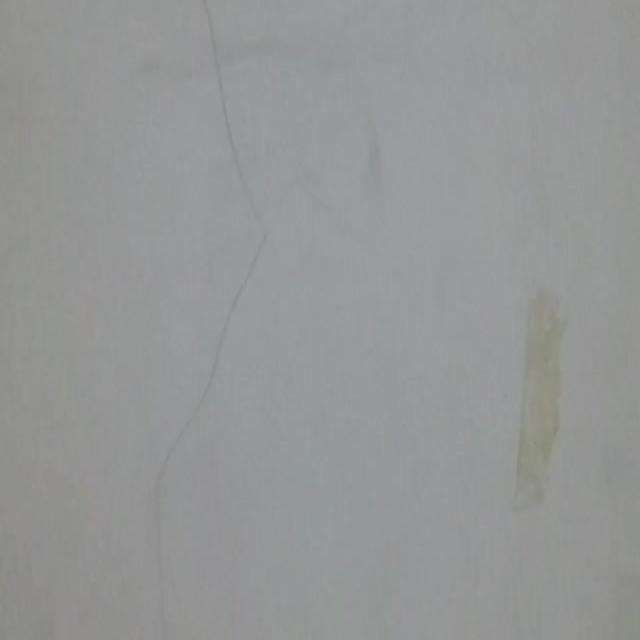Crack: (164, 0, 301, 333), (146, 340, 239, 624)
